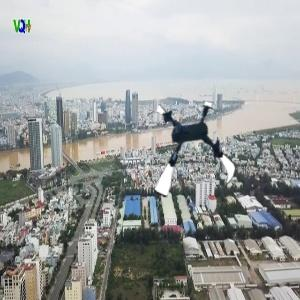drone: (138, 100, 242, 204)
